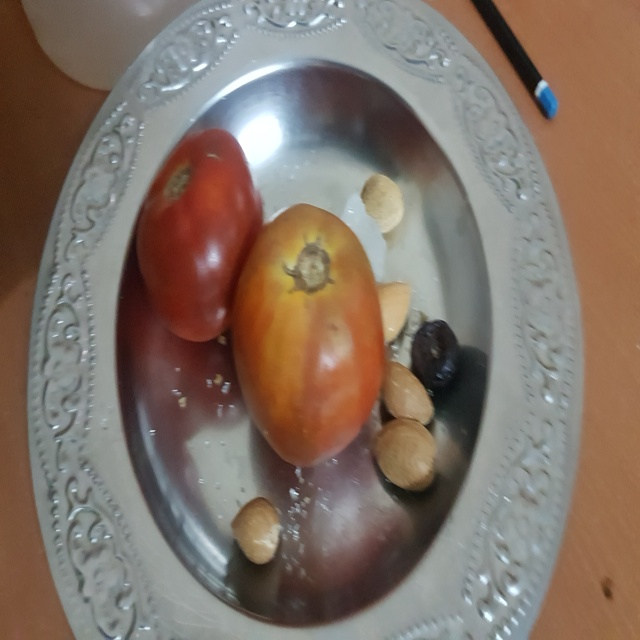tomato: (231, 202, 396, 473), (135, 129, 268, 355)
